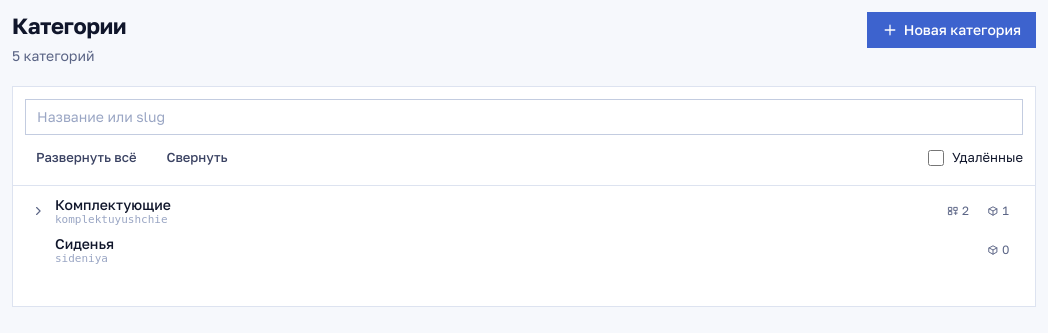
дерево категорий › поиск показывает совпадение внутри свёрнутой ветки
Type "стальн" into the search field named "Поиск категории" at {"x": 524, "y": 117}, box [25,99,1023,135]
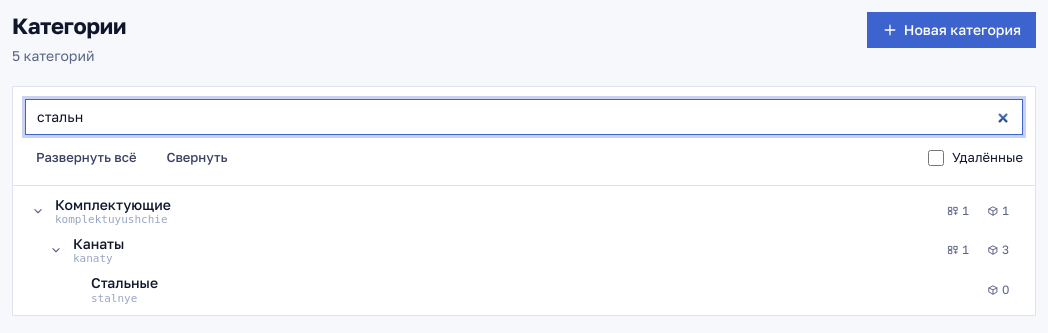
expect the text "Стальные" is shown: met, box [91,274,158,291]
expect the text "Сиденья" is gone: met
Replace the text in the search field named "Поиск категории" with "нет-такой" at {"x": 524, "y": 117}, box [25,99,1023,135]
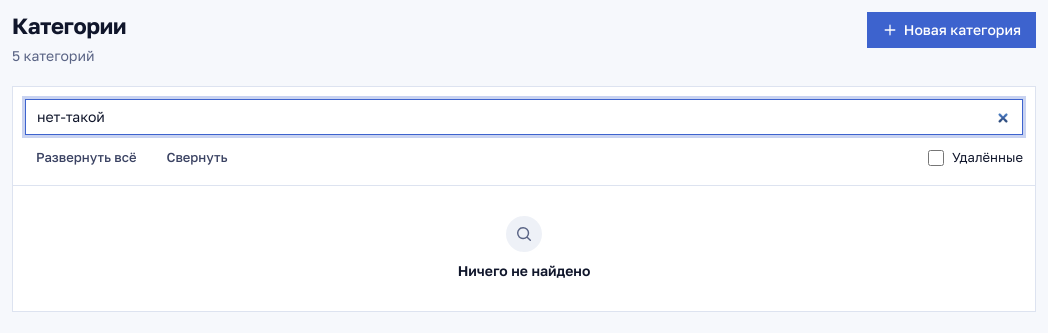
expect the text "Ничего не найдено" is shown: met, box [458,260,590,281]
